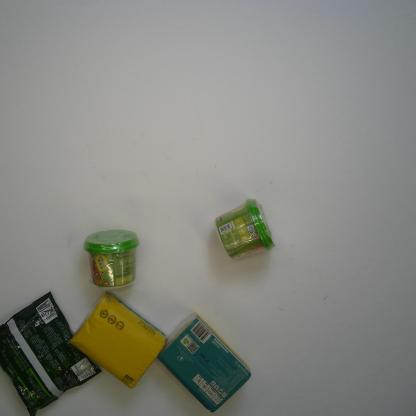Instant Drink: (213, 198, 277, 261), (82, 229, 140, 289)
Instant Noodles: (0, 290, 103, 416)
Tissue: (67, 290, 167, 390), (157, 311, 252, 414)
